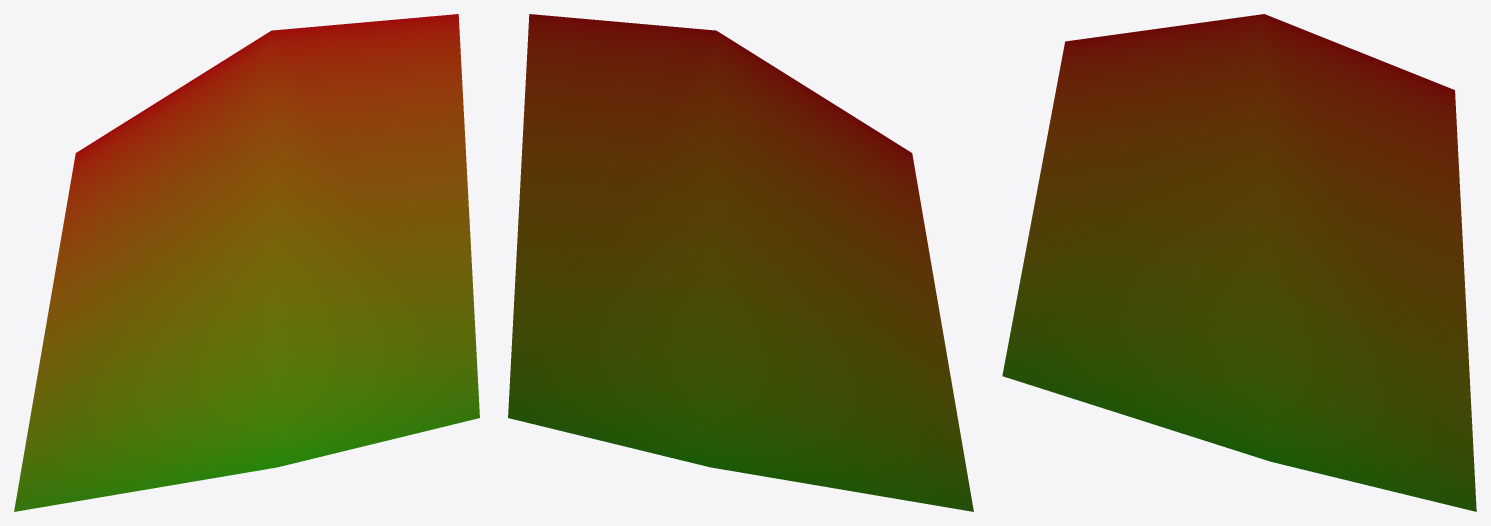
File: Basket Grass_LOD4_Var2_slfpffjr.fbx
3 views of the same model, side by side, from view 1: azimuth 30°, elevation 25°; view 2: azimuth 150°, elevation 25°; view 3: azimuth 330°, elevation 25° (orthographic).
Visible parts, largest first — view 1: _40c2_Var2_LOD4; view 2: _40c2_Var2_LOD4; view 3: _40c2_Var2_LOD4.
Boxes of the visible parts, x1,y1,x2,y2 form: _40c2_Var2_LOD4: [14, 14, 479, 511]; _40c2_Var2_LOD4: [508, 14, 973, 511]; _40c2_Var2_LOD4: [1002, 14, 1476, 511].
Bounding box in the file's own units: 86.04 × 77.34 × 1.67e-06.
